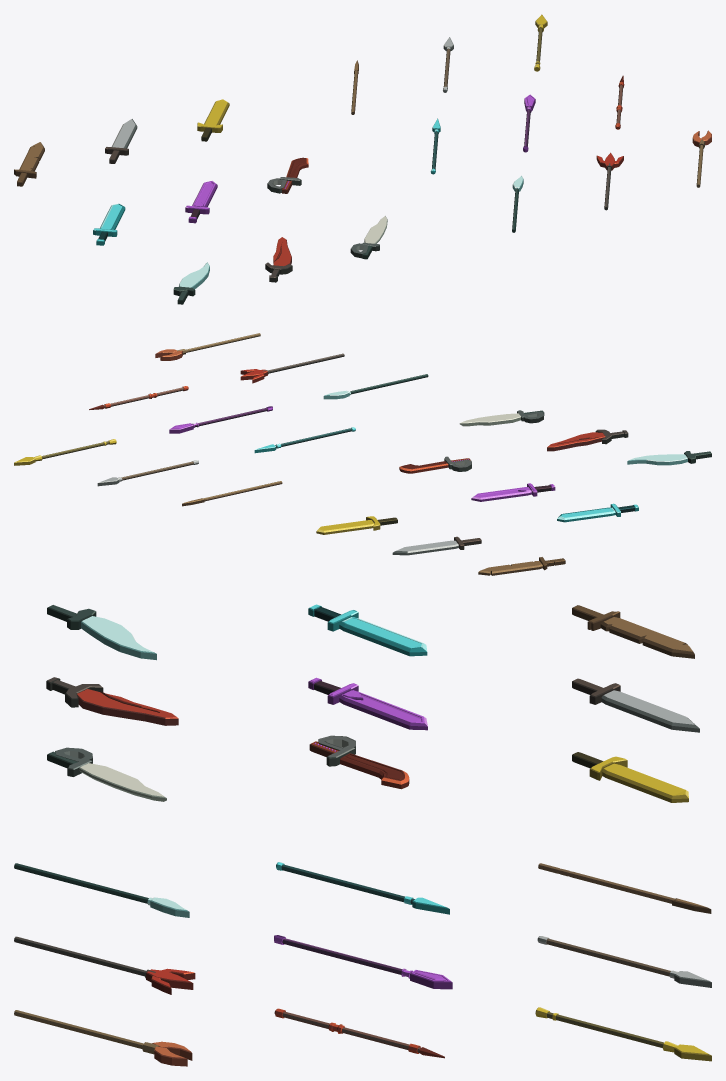
The model's file is espadas-e-lancas.fbx.
The picture shows the model from 3 angles, top to bottom: view 1: azimuth 30°, elevation 25°; view 2: azimuth 150°, elevation 25°; view 3: azimuth 270°, elevation 25°; orthographic projection. The views are drawn at different scales.
Visible parts, largest first — view 1: lava_sword, pirate_sword, reidite_sword, gold_sword, stone_sword, dragon_sword, wood_sword, amethyst_sword, diamond_sword, lava_spear; view 2: lava_sword, pirate_sword, dragon_sword, stone_sword, wood_sword, gold_sword, amethyst_sword, diamond_sword, reidite_sword, lava_spear, crab_spear, amethyst_spear (+6 smaller); view 3: lava_sword, stone_sword, wood_sword, gold_sword, diamond_sword, amethyst_sword, pirate_sword, dragon_sword, reidite_sword, lava_spear, crab_spear, amethyst_spear (+6 smaller).
Boxes of the visible parts, box(x1,y1,x2,y2) form: lava_sword: box(265, 237, 292, 282); pirate_sword: box(350, 216, 387, 259); reidite_sword: box(267, 157, 308, 193); gold_sword: box(197, 99, 229, 141); stone_sword: box(105, 119, 137, 163); dragon_sword: box(173, 262, 209, 304); wood_sword: box(14, 142, 44, 186); amethyst_sword: box(185, 181, 217, 223); diamond_sword: box(93, 203, 125, 245); lava_spear: box(596, 152, 623, 210); lava_sword: box(547, 429, 628, 451); pirate_sword: box(459, 410, 544, 426); dragon_sword: box(627, 451, 711, 465); stone_sword: box(392, 536, 481, 555); wood_sword: box(478, 557, 565, 575); gold_sword: box(316, 516, 397, 534); amethyst_sword: box(471, 483, 555, 501); diamond_sword: box(557, 503, 638, 522); reidite_sword: box(399, 456, 471, 473); lava_spear: box(240, 353, 344, 383); crab_spear: box(155, 333, 260, 360); amethyst_spear: box(169, 406, 272, 433); lava_sword: box(46, 677, 178, 725); stone_sword: box(572, 678, 699, 732); wood_sword: box(572, 605, 694, 658); gold_sword: box(572, 752, 688, 802); diamond_sword: box(308, 604, 427, 656); amethyst_sword: box(308, 677, 427, 730); pirate_sword: box(47, 747, 166, 801); dragon_sword: box(47, 605, 156, 660); reidite_sword: box(309, 735, 409, 789); lava_spear: box(14, 936, 195, 994); crab_spear: box(14, 1010, 192, 1066); amethyst_spear: box(274, 935, 452, 989).
Size of the model in its own units: 16.43 by 0.3487 by 10.65.
Materials: 1 (1 with a texture image).
